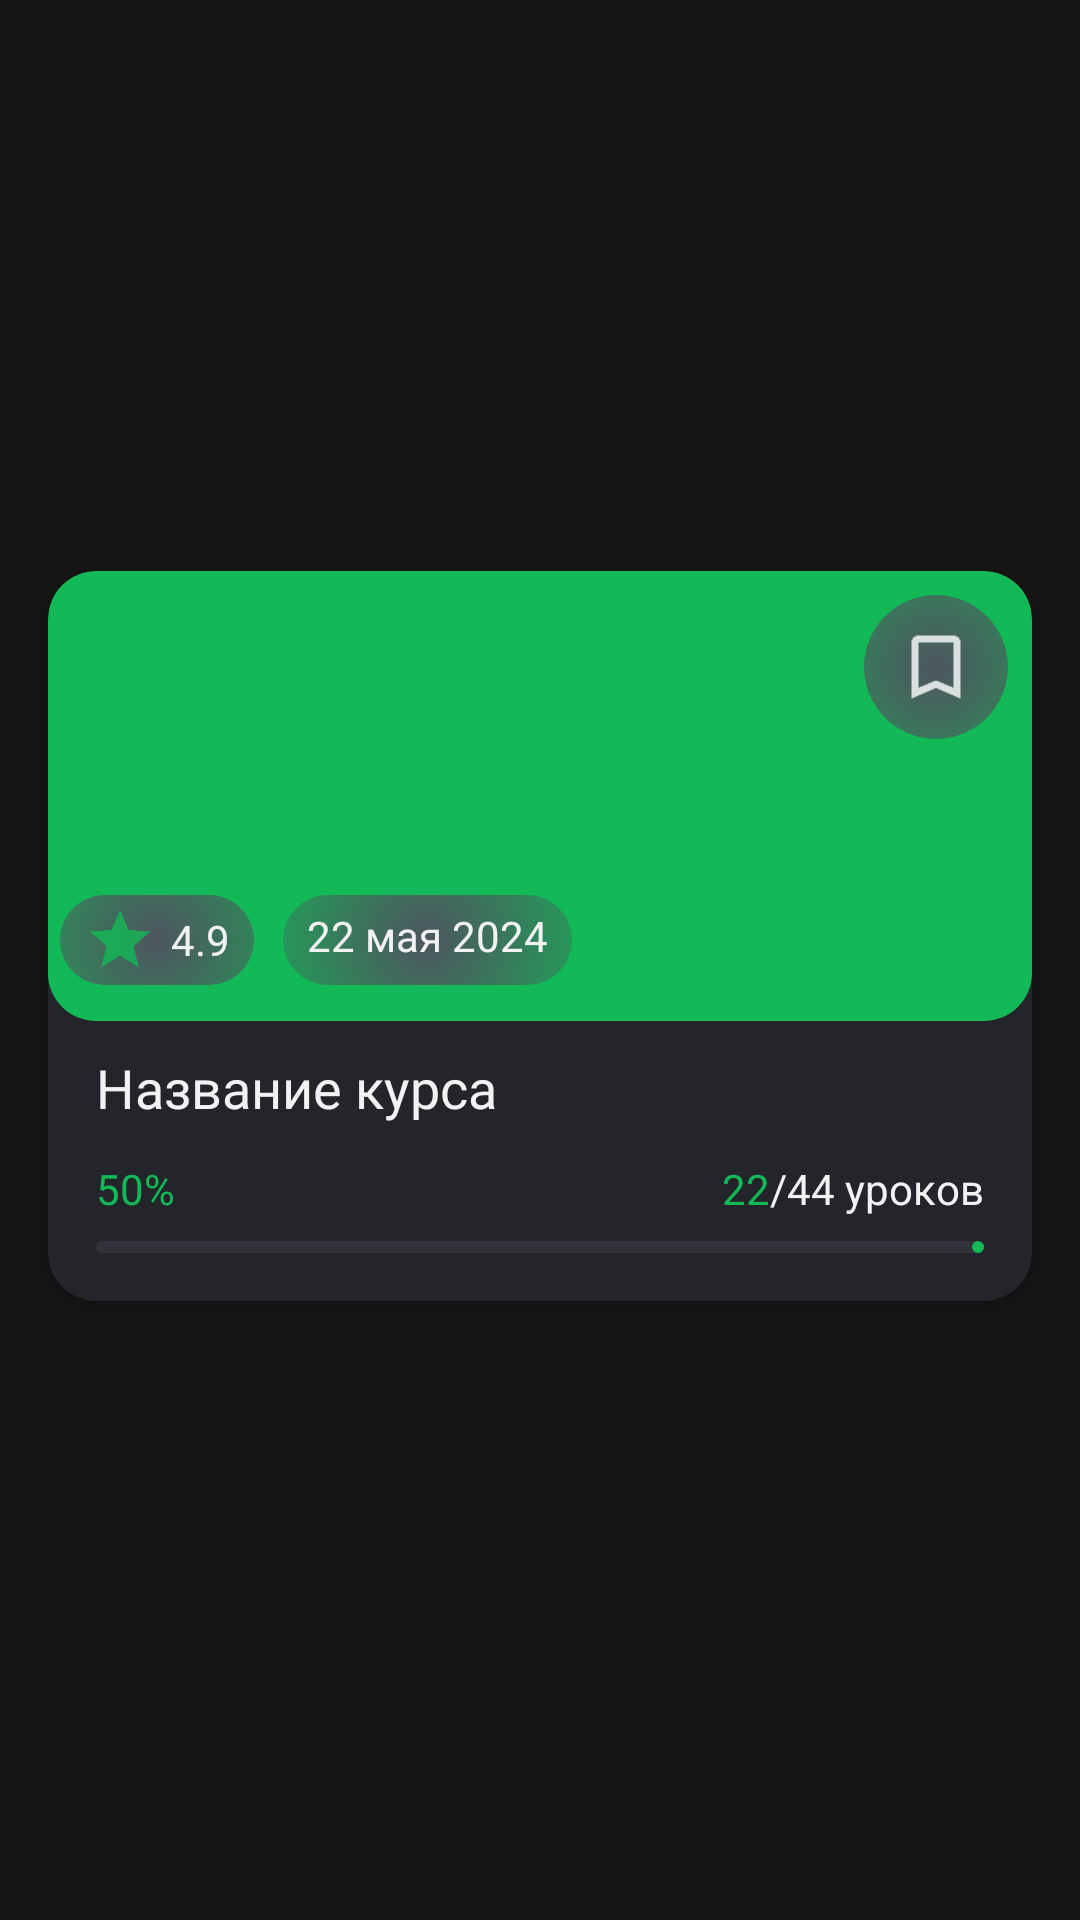

Point at icon controls on the screen. Image size 1080px×1920px, points as (x=x, y=y).
Избранное: (x=936, y=667)
